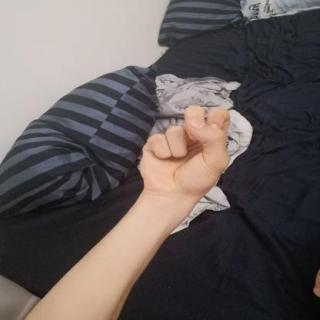QAAF: (140, 101, 238, 207)
